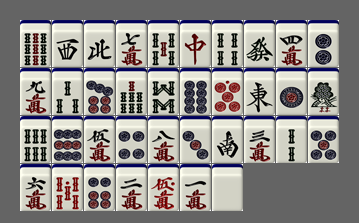0m: (148, 164, 179, 211)
0p: (212, 68, 243, 115)
0s: (52, 164, 83, 211)
1m: (180, 164, 211, 211)
1p: (276, 68, 307, 115)
1s: (308, 68, 339, 115)
1z: (244, 68, 275, 115)
2m: (116, 164, 147, 211)
2p: (308, 20, 339, 67)
2s: (276, 116, 307, 163)
2z: (212, 116, 243, 163)
3m: (244, 116, 275, 163)
3p: (180, 116, 211, 163)
3s: (52, 68, 83, 115)
3z: (52, 20, 83, 67)
4m: (276, 20, 307, 67)
4p: (116, 116, 147, 163)
4s: (212, 20, 243, 67)
4z: (84, 20, 115, 67)
5m: (84, 116, 115, 163)
5p: (308, 116, 339, 163)
5s: (148, 20, 179, 67)
5z: (212, 164, 243, 211)
6m: (20, 164, 51, 211)
6p: (84, 164, 115, 211)
6s: (20, 116, 51, 163)
6z: (244, 20, 275, 67)
7m: (116, 20, 147, 67)
7p: (84, 68, 115, 115)
7s: (116, 68, 147, 115)
7z: (180, 20, 211, 67)
8m: (148, 116, 179, 163)
8p: (180, 68, 211, 115)
8s: (148, 68, 179, 115)
9m: (20, 68, 51, 115)
9p: (52, 116, 83, 163)
9s: (20, 20, 51, 67)
